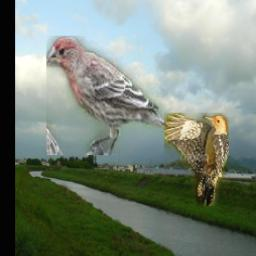Sparrow: (47, 36, 181, 155)
Woodpecker: (164, 113, 229, 206)
